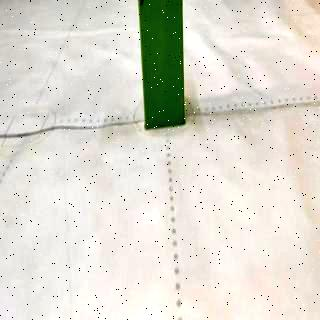greenbox: (139, 0, 187, 127)
